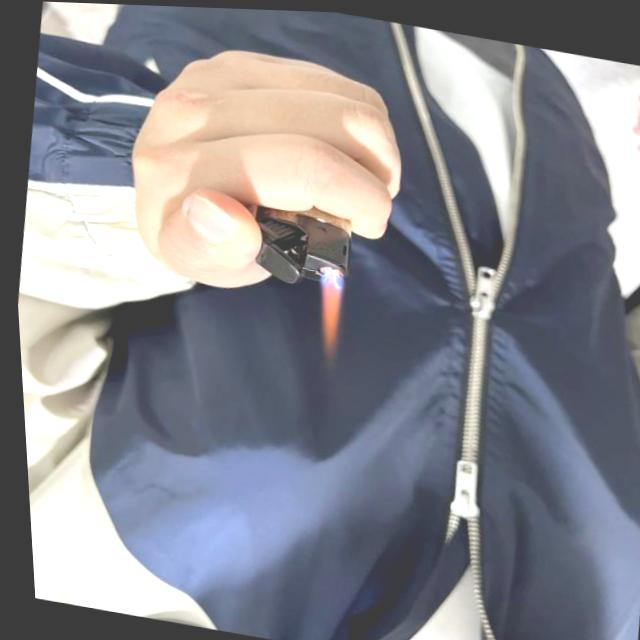helmet: (302, 268, 343, 349)
